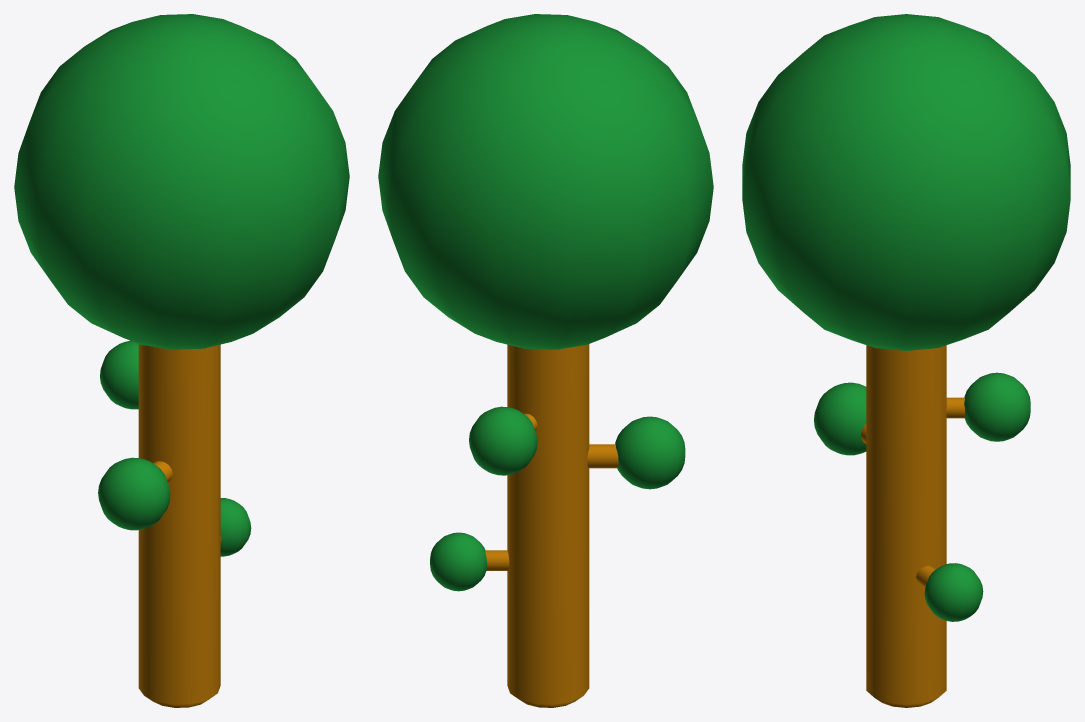
The model's file is TreeTallGiga.fbx.
3 views of the same model, side by side, from view 1: azimuth 30°, elevation 25°; view 2: azimuth 150°, elevation 25°; view 3: azimuth 270°, elevation 25° (orthographic).
Parts seen in each view (by area): view 1: polySurface12, polySurface5, polySurface9, polySurface10, polySurface11; view 2: polySurface12, polySurface5, polySurface9, polySurface10, polySurface11, polySurface7; view 3: polySurface12, polySurface5, polySurface10, polySurface9, polySurface11.
Boxes of the visible parts, bbox=[...] form: polySurface12: bbox=[14, 14, 349, 349]; polySurface5: bbox=[138, 344, 220, 707]; polySurface9: bbox=[98, 457, 170, 530]; polySurface10: bbox=[100, 340, 138, 409]; polySurface11: bbox=[220, 498, 251, 556]; polySurface12: bbox=[378, 14, 713, 349]; polySurface5: bbox=[507, 344, 589, 707]; polySurface9: bbox=[615, 416, 685, 489]; polySurface10: bbox=[469, 406, 537, 475]; polySurface11: bbox=[430, 532, 487, 591]; polySurface7: bbox=[587, 444, 618, 468]; polySurface12: bbox=[742, 14, 1070, 350]; polySurface5: bbox=[866, 345, 946, 707]; polySurface10: bbox=[964, 372, 1030, 441]; polySurface9: bbox=[814, 382, 866, 455]; polySurface11: bbox=[924, 563, 983, 621].
Bounding box in the file's own units: 7.94 × 17.34 × 7.74.
